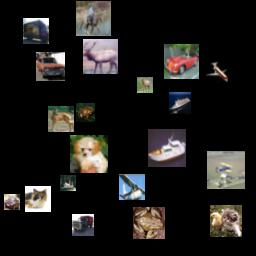airplane: (207, 151, 245, 189), (119, 174, 145, 200), (206, 61, 228, 83)
automobile: (164, 44, 199, 79), (36, 52, 65, 81), (4, 194, 20, 210)
cat: (210, 205, 242, 237), (25, 186, 51, 212)
deer: (83, 39, 118, 74), (48, 106, 74, 132), (137, 77, 153, 93)
dog: (70, 135, 108, 173)
frog: (133, 207, 165, 239), (76, 103, 95, 122)
ship: (148, 129, 186, 167), (169, 92, 191, 114), (60, 175, 76, 191)
truck: (23, 18, 49, 44), (72, 214, 94, 236)
